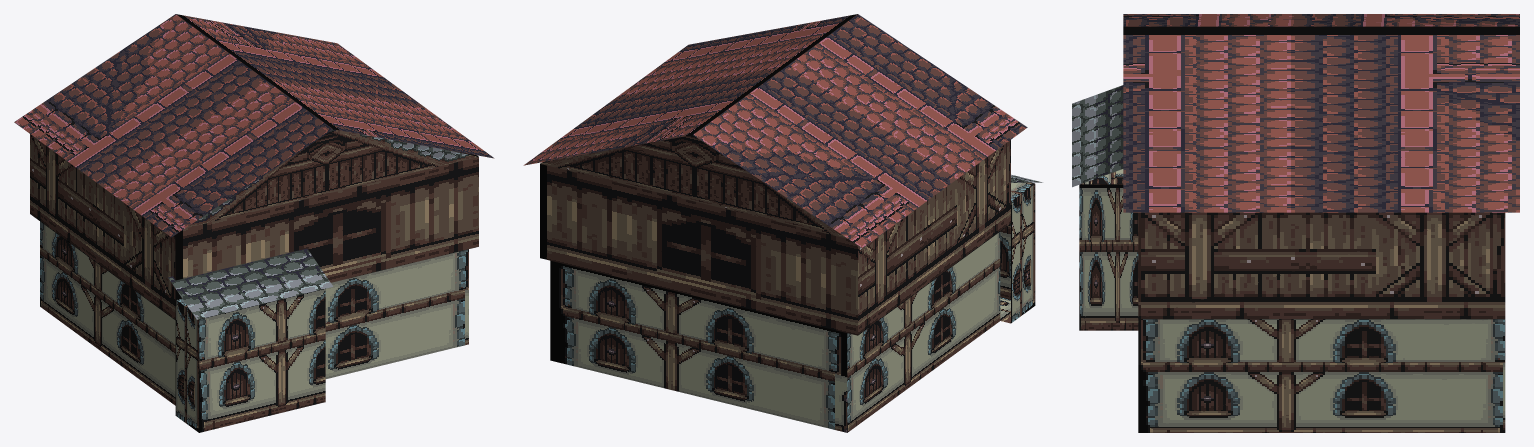
The model's file is house_small.glb.
The picture shows the model from 3 angles, left to right: view 1: azimuth 30°, elevation 25°; view 2: azimuth 150°, elevation 25°; view 3: azimuth 270°, elevation 25°; orthographic projection. The views are drawn at different scales.
Parts seen in each view (by area): view 1: House_RoofLeft, House_Upper_Front, House_Porch, House_RoofRight, House_Ground_Front, House_Upper_Left, House_Ground_Left, House_GableFront, House_PorchRoof; view 2: House_RoofLeft, House_Upper_Back, House_Ground_Back, House_RoofRight, House_Ground_Left, House_Upper_Left, House_GableBack, House_Porch; view 3: House_RoofRight, House_Ground_Right, House_Upper_Right, House_Porch, House_RoofLeft, House_PorchRoof.
Part boxes in pixels (<box>): House_RoofLeft: <box>14,14,332,237</box>; House_Upper_Front: <box>175,157,478,299</box>; House_Porch: <box>175,288,325,432</box>; House_RoofRight: <box>176,14,494,158</box>; House_Ground_Front: <box>325,249,468,378</box>; House_Upper_Left: <box>30,134,175,320</box>; House_Ground_Left: <box>40,221,175,405</box>; House_GableFront: <box>185,129,478,228</box>; House_PorchRoof: <box>168,248,332,319</box>; House_RoofLeft: <box>693,14,1027,248</box>; House_Upper_Back: <box>540,164,857,335</box>; House_Ground_Back: <box>550,260,847,432</box>; House_RoofRight: <box>523,14,857,165</box>; House_Ground_Left: <box>847,232,1000,432</box>; House_Upper_Left: <box>858,140,1010,335</box>; House_GableBack: <box>540,135,847,238</box>; House_Porch: <box>1000,182,1035,323</box>; House_RoofRight: <box>1123,26,1519,212</box>; House_Ground_Right: <box>1138,319,1505,432</box>; House_Upper_Right: <box>1138,212,1505,319</box>; House_Porch: <box>1079,169,1138,330</box>; House_RoofLeft: <box>1123,14,1519,26</box>; House_PorchRoof: <box>1072,85,1123,187</box>.
Size of what is drawn, in the model's own units: 6.4 by 4.8 by 6.1.
Materials: 1 (1 with a texture image).
